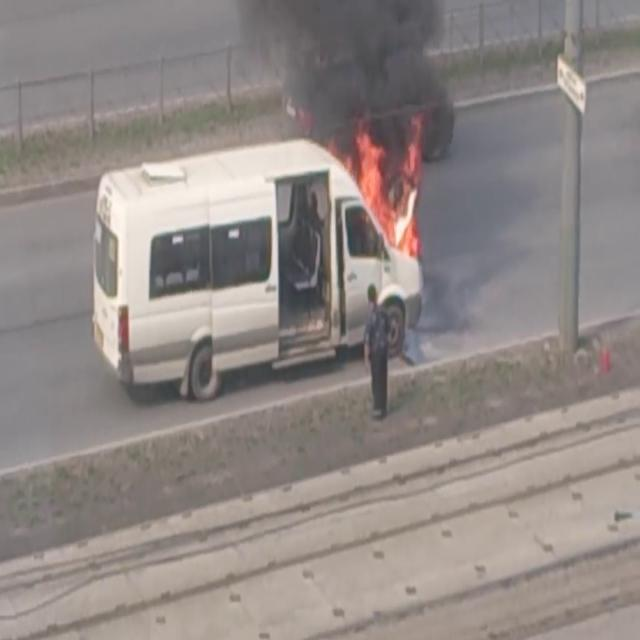Fire: (350, 126, 428, 260)
Smoke: (253, 0, 461, 150)
